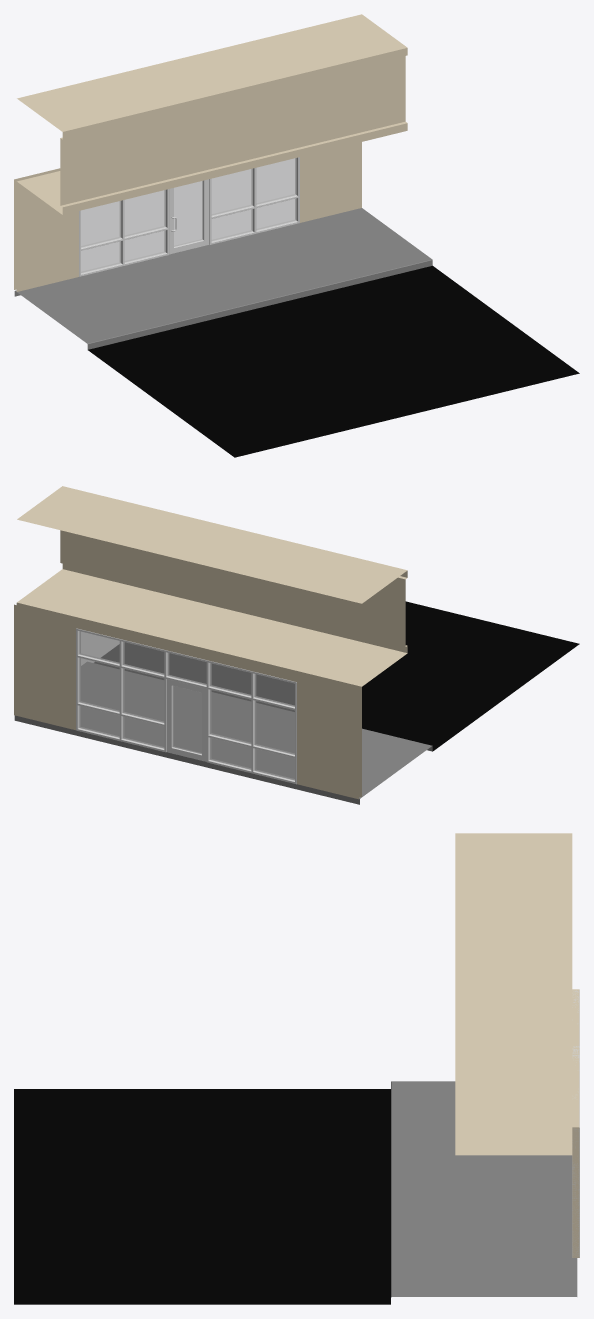
The model's file is tutorialstore.fbx.
3 views of the same model, one above another, from view 1: azimuth 30°, elevation 25°; view 2: azimuth 150°, elevation 25°; view 3: azimuth 270°, elevation 25° (orthographic). The views are drawn at different scales.
Visible parts, largest first — view 1: storefront, road section, sidewalk section, storefront glass cutout, window, door glass, door frame; view 2: storefront, road section, storefront glass cutout, sidewalk section, window, door glass, door frame; view 3: road section, storefront, sidewalk section, window.
Part boxes in pixels (x1,y1,x2,y2): storefront: (14,14,407,291); road section: (88,265,579,457); sidewalk section: (14,208,432,349); storefront glass cutout: (81,158,296,272); window: (79,157,299,276); door glass: (174,181,203,246); door frame: (169,179,209,254); storefront: (14,486,407,799); road section: (94,601,579,751); storefront glass cutout: (79,631,294,780); sidewalk section: (14,662,432,804); window: (76,628,296,784); door glass: (172,686,201,754); door frame: (166,679,206,761); road section: (14,1089,390,1304); storefront: (455,833,579,1257); sidewalk section: (391,1081,577,1297); window: (572,989,579,1257).
Size of the model in its own units: 914 by 505 by 1014.
